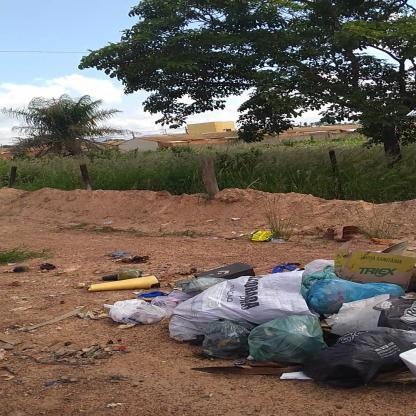lixo: (95, 248, 416, 386)
